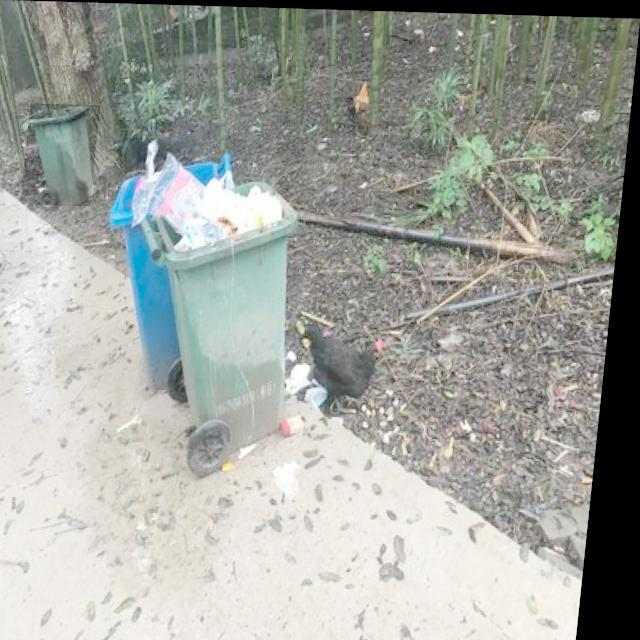garbage: (285, 345, 337, 432)
garbage_bin: (24, 103, 103, 205)
overflow: (117, 139, 312, 450)
